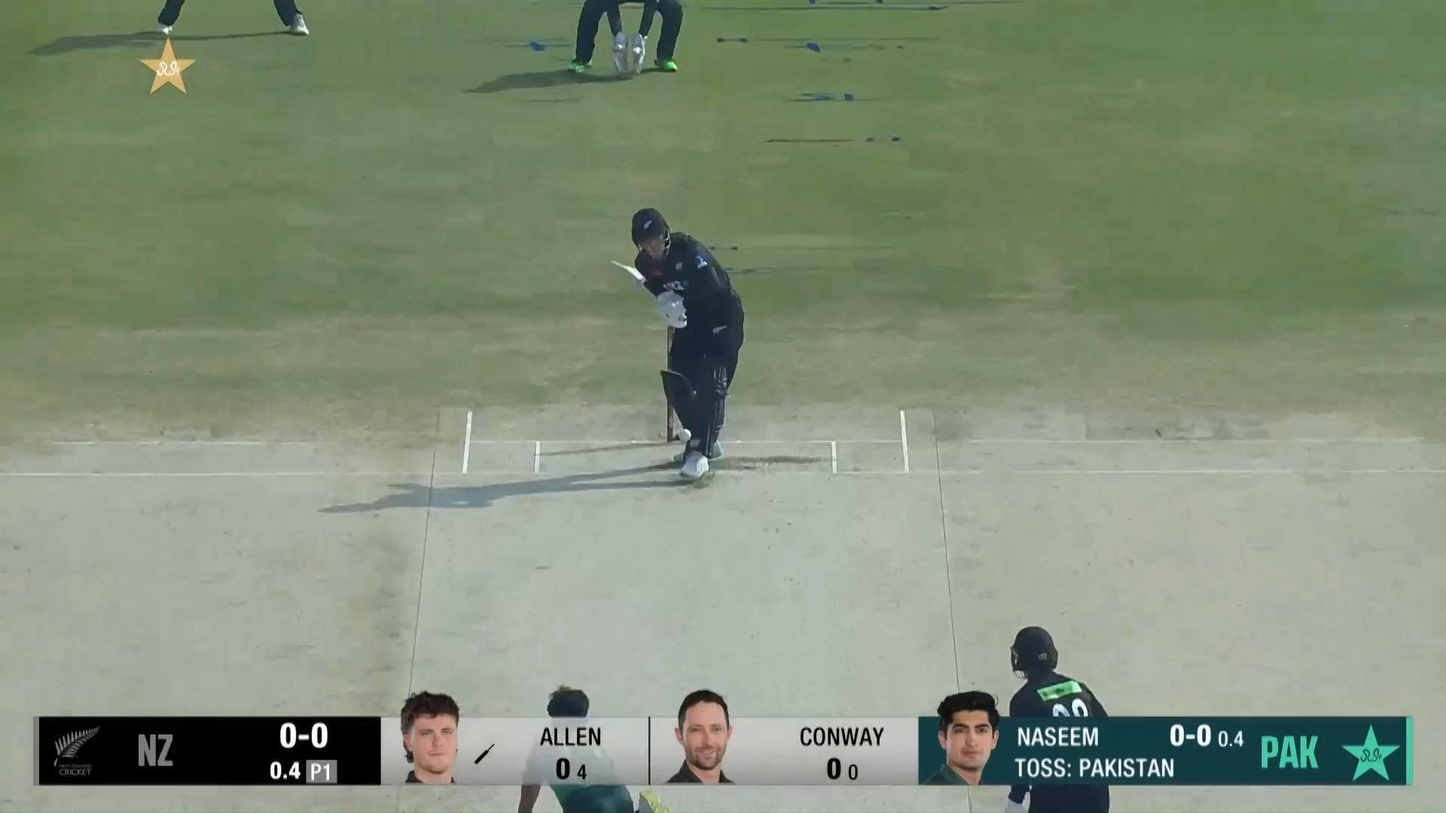BM 1: (609, 206, 747, 481)
BO: (518, 682, 669, 813)
